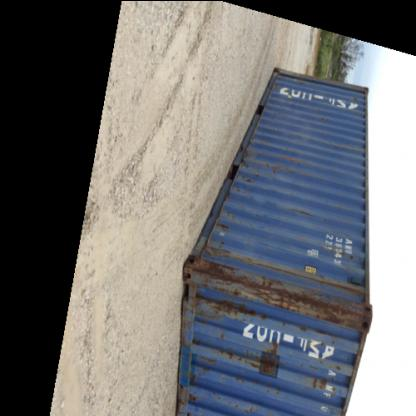Damage: (190, 242, 272, 327), (272, 261, 364, 324), (218, 340, 284, 376), (236, 153, 298, 189), (296, 321, 340, 343), (305, 371, 336, 395), (228, 395, 263, 414), (197, 354, 219, 378), (290, 206, 322, 220), (182, 386, 206, 404), (255, 384, 285, 398), (325, 361, 349, 373), (188, 334, 206, 350), (218, 221, 235, 232)
